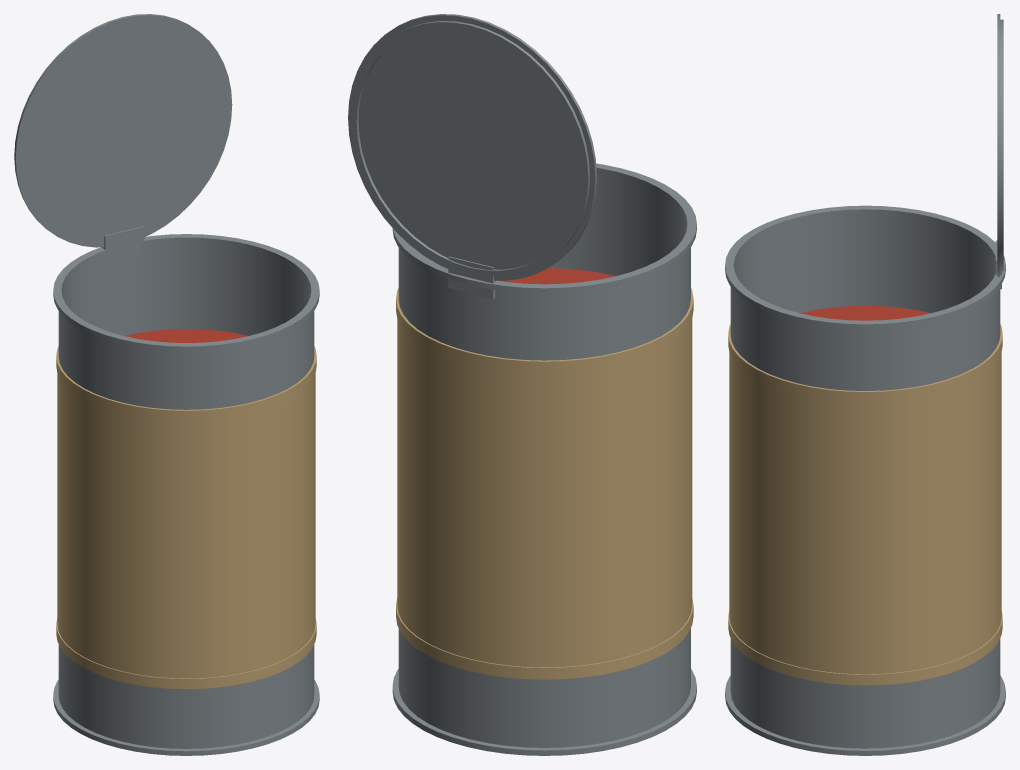
File: opened_soup.glb
3 views of the same model, side by side, from view 1: azimuth 30°, elevation 25°; view 2: azimuth 150°, elevation 25°; view 3: azimuth 270°, elevation 25° (orthographic). The views are drawn at different scales.
Parts seen in each view (by area): view 1: body:openTin; view 2: body:openTin; view 3: body:openTin.
Boxes of the visible parts, x1,y1,x2,y2 form: body:openTin: (14, 14, 319, 755); body:openTin: (348, 14, 696, 755); body:openTin: (725, 14, 1005, 755).
Size of the model in its own units: 0.0708 by 0.1864 by 0.0708.
